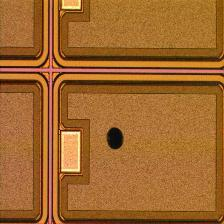PARTICLE: (100, 123, 132, 155)
